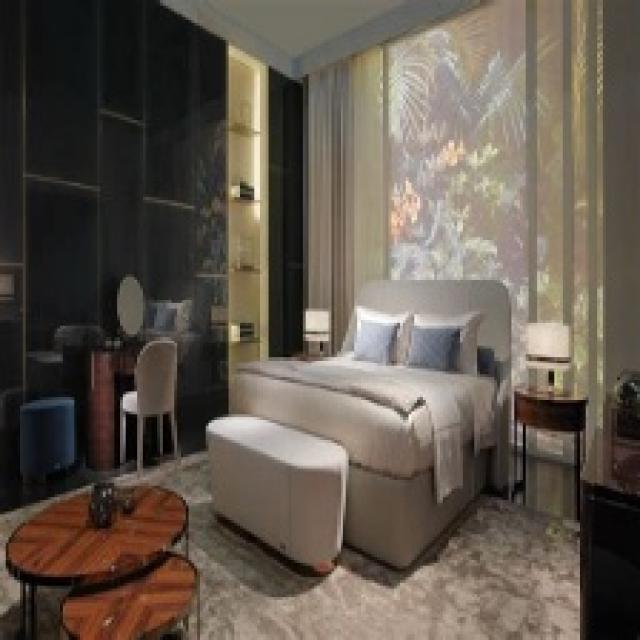Bed: (226, 277, 511, 569)
